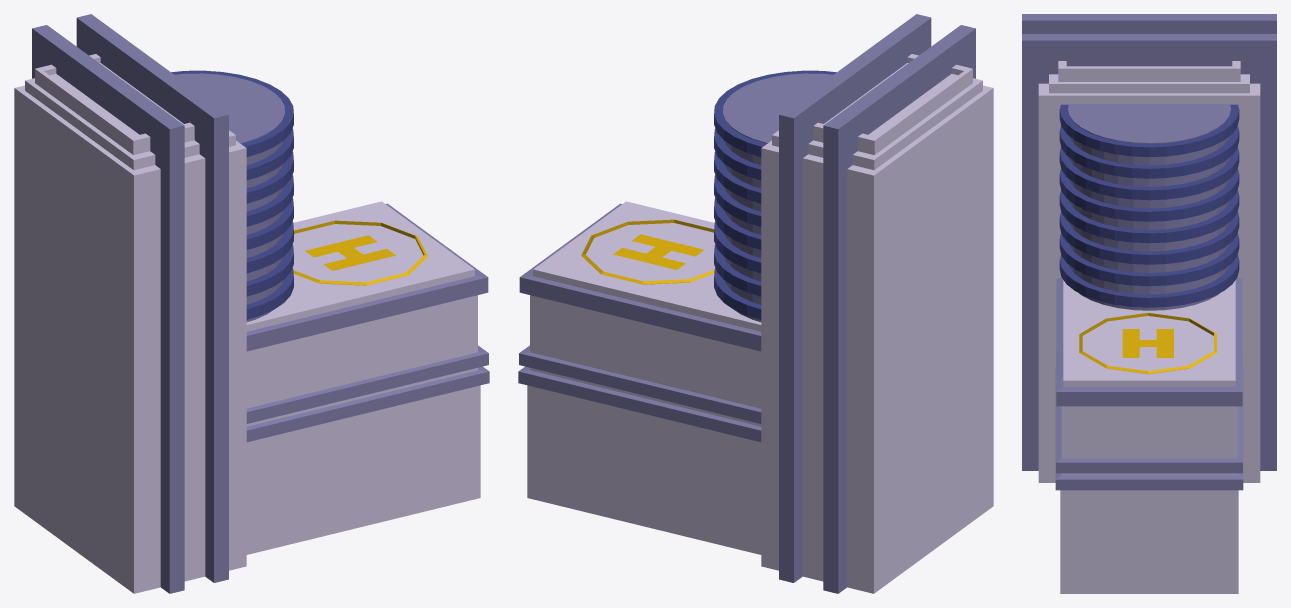
The model's file is Hospital.fbx.
3 renders of one model, left to right at view 1: azimuth 30°, elevation 25°; view 2: azimuth 150°, elevation 25°; view 3: azimuth 270°, elevation 25°, orthographic. The views are drawn at different scales.
Parts seen in each view (by area): view 1: Cube.004, Cube, Cube.005, Cube.006, Cylinder, Cube.001, Cube.003, Cube.002, Plane.001, Cylinder.006, Cylinder.005, Cylinder.002 (+5 smaller); view 2: Cube.004, Cube, Cube.005, Cube.006, Cylinder, Cube.001, Cube.003, Cube.002, Plane.001, Cylinder.006, Cylinder.005, Cylinder.002 (+5 smaller); view 3: Cube, Cube.004, Cube.006, Cylinder, Cube.001, Cube.005, Cube.002, Cube.003, Cylinder.006, Cylinder.001, Cylinder.004, Cylinder.008 (+5 smaller).
Boxes of the visible parts, x1,y1,x2,y2 form: Cube.004: [14, 54, 246, 593]; Cube: [246, 201, 480, 554]; Cube.005: [32, 25, 184, 593]; Cube.006: [76, 14, 228, 582]; Cylinder: [174, 73, 284, 321]; Cube.001: [246, 203, 488, 351]; Cube.003: [246, 366, 489, 442]; Cube.002: [246, 345, 488, 423]; Plane.001: [293, 220, 427, 285]; Cylinder.006: [171, 70, 293, 156]; Cylinder.005: [246, 128, 293, 180]; Cylinder.002: [246, 244, 293, 296]; Cube.004: [761, 54, 993, 593]; Cube: [527, 201, 761, 554]; Cube.005: [823, 25, 975, 593]; Cube.006: [779, 14, 931, 582]; Cylinder: [723, 73, 833, 321]; Cube.001: [519, 203, 761, 351]; Cube.003: [518, 366, 761, 442]; Cube.002: [519, 345, 761, 423]; Plane.001: [581, 219, 714, 284]; Cylinder.006: [714, 70, 836, 156]; Cylinder.005: [714, 128, 761, 180]; Cylinder.002: [714, 244, 761, 296]; Cube: [1060, 280, 1238, 593]; Cube.004: [1038, 61, 1260, 482]; Cube.006: [1022, 34, 1276, 470]; Cylinder: [1068, 104, 1230, 310]; Cube.001: [1056, 278, 1242, 406]; Cube.005: [1022, 14, 1276, 33]; Cube.002: [1056, 349, 1242, 473]; Cube.003: [1055, 366, 1243, 490]; Cylinder.006: [1059, 104, 1239, 157]; Cylinder.001: [1059, 255, 1239, 307]; Cylinder.004: [1059, 212, 1239, 264]; Cylinder.008: [1059, 169, 1239, 221].
Size of the model in its own units: 4926 by 6000 by 3220.
